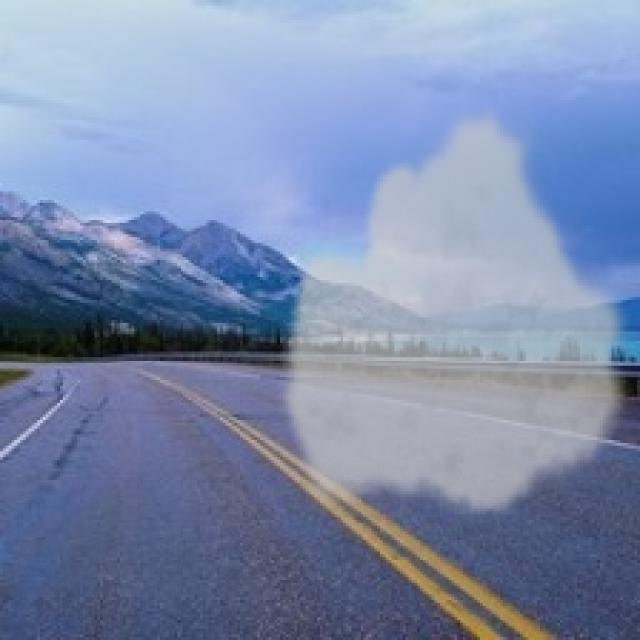smoke: (277, 100, 637, 520)
